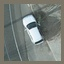car: (21, 14, 46, 45)
